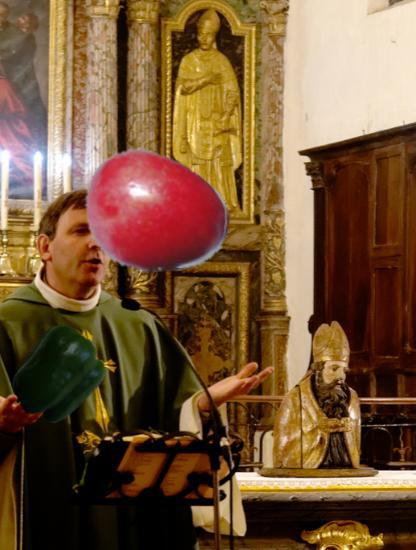Cherry: (83, 136, 231, 284)
Pepper: (8, 326, 105, 423)
